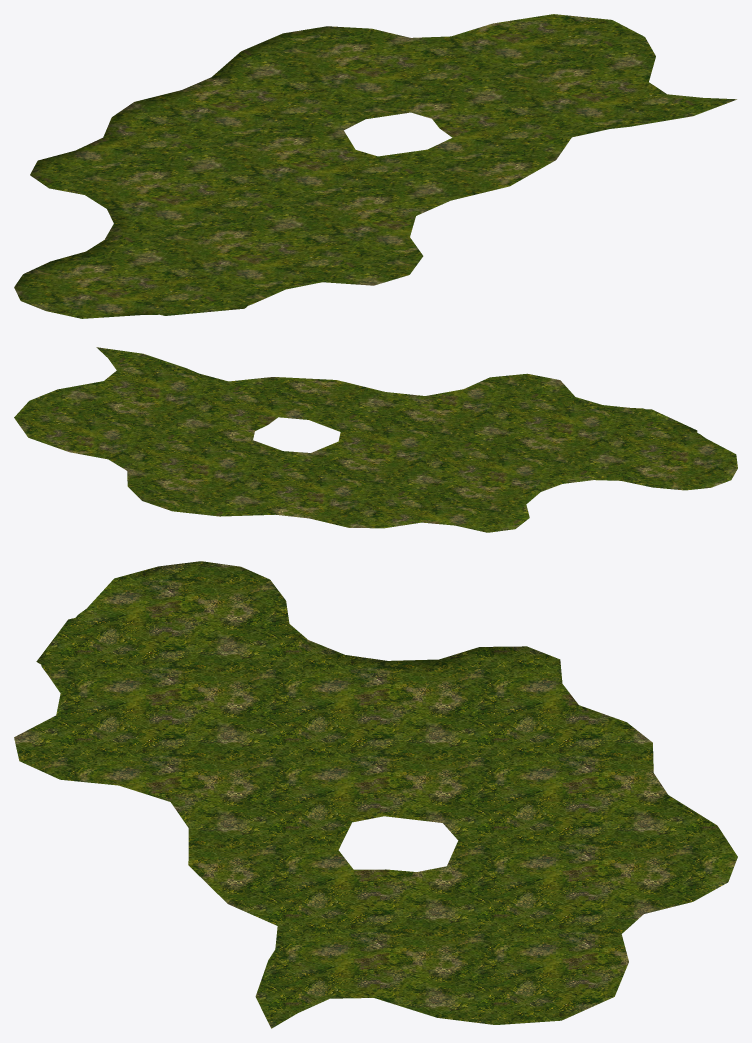
Rendered from OVERHILL_A_01_BOULDER_TOSS_FLOOR_01.fbx.
3 views of the same model, one above another, from view 1: azimuth 30°, elevation 25°; view 2: azimuth 150°, elevation 25°; view 3: azimuth 270°, elevation 25° (orthographic). The views are drawn at different scales.
Parts seen in each view (by area): view 1: OVERHILL_A_01_BOULDER_TOSS_FLOOR_01; view 2: OVERHILL_A_01_BOULDER_TOSS_FLOOR_01; view 3: OVERHILL_A_01_BOULDER_TOSS_FLOOR_01.
Boxes of the visible parts, x1=… form: OVERHILL_A_01_BOULDER_TOSS_FLOOR_01: x1=14, y1=14, x2=736, y2=318; OVERHILL_A_01_BOULDER_TOSS_FLOOR_01: x1=14, y1=347, x2=737, y2=532; OVERHILL_A_01_BOULDER_TOSS_FLOOR_01: x1=14, y1=561, x2=737, y2=1028.
Bounding box in the file's own units: 212472 × 162 × 139003.
Materials: 1 (1 with a texture image).
